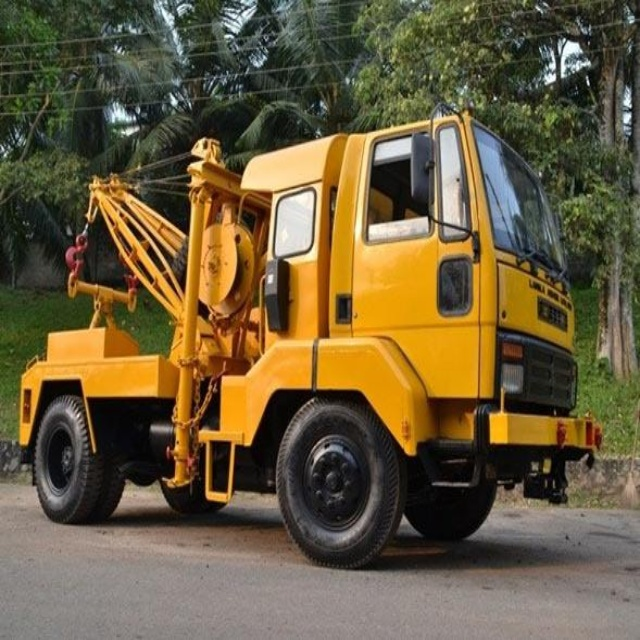Truck: (18, 107, 601, 569)
